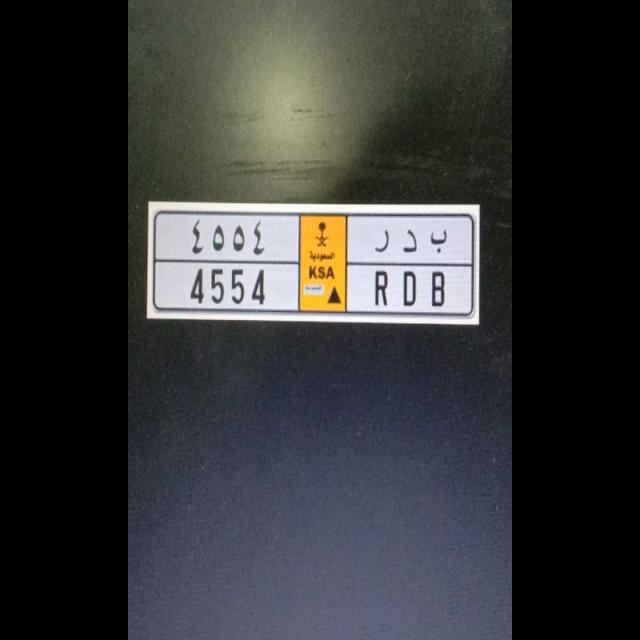license_plate: (172, 261, 464, 318)
